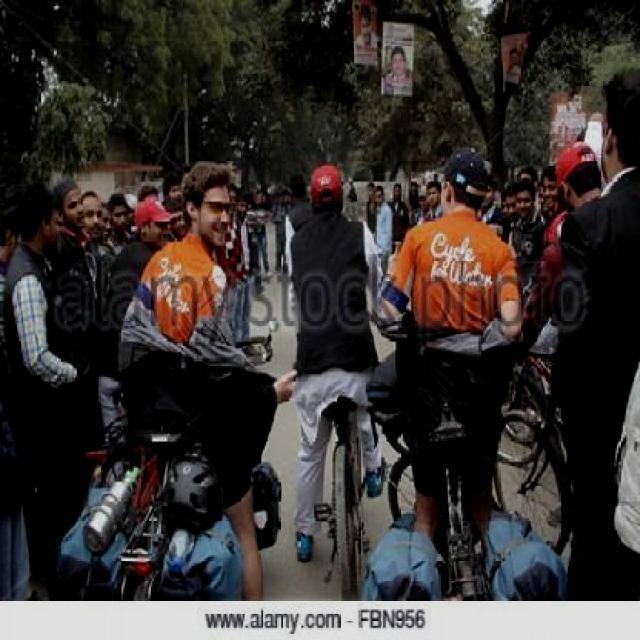Without Helmet: (170, 152, 242, 252), (428, 146, 494, 232), (306, 160, 345, 215)
